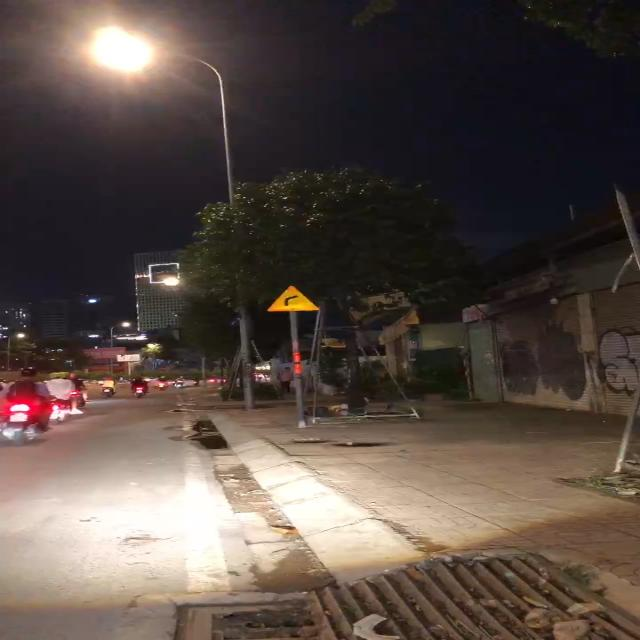Bien bao cho ngoat nguy hiem: (267, 281, 326, 319)
